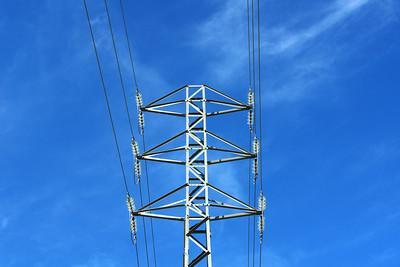power_tower: (119, 75, 278, 267)
